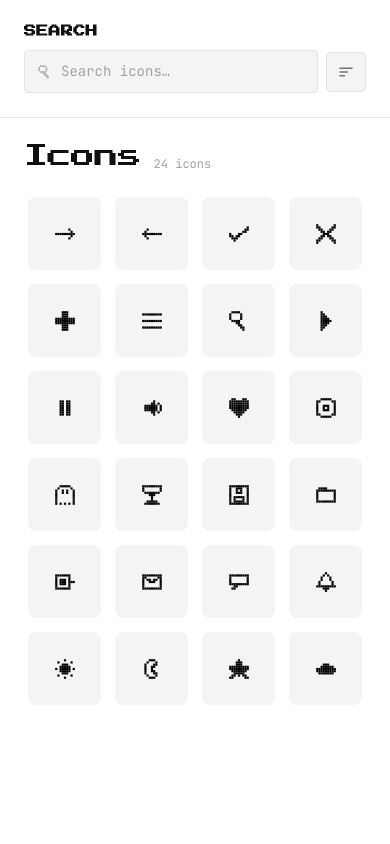
Scenario: filter sheet › Reset commits the defaults and closes
Click the button named "Filters" at (346, 72), box [326,52,366,92]
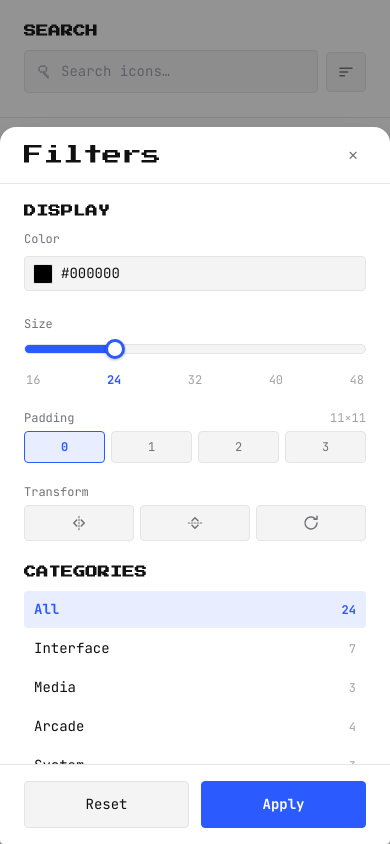
Click the button "Arcade 4" at (59, 726), box [24,708,366,745]
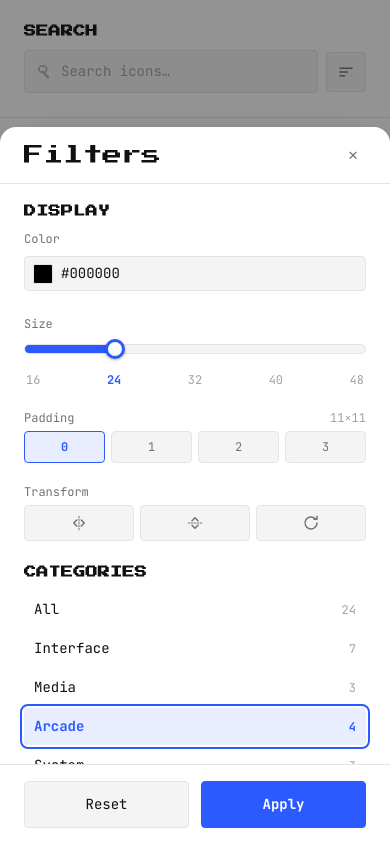
Click the button "Apply" at (284, 804), box [201,781,366,828]
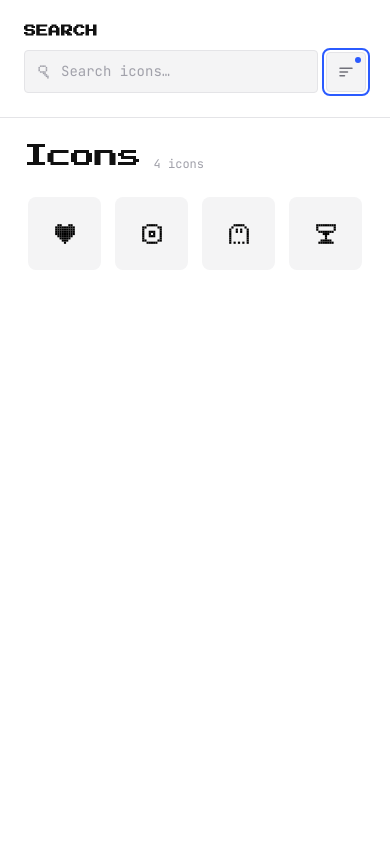
Click the button named "Filters" at (346, 72), box [326,52,366,92]
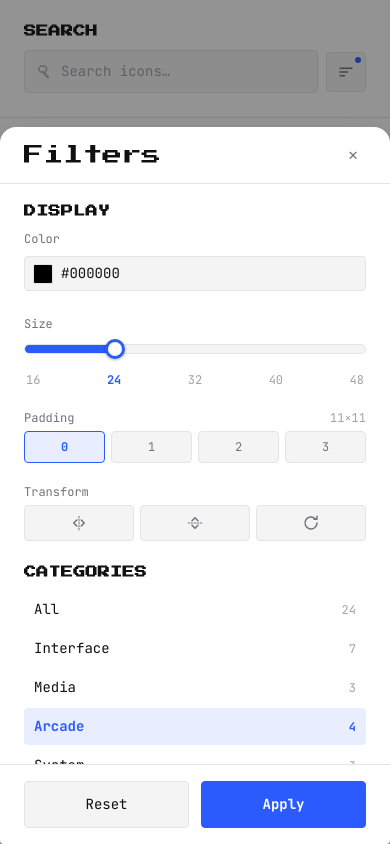
Click the button "Reset" at (106, 804), box [24,781,189,828]
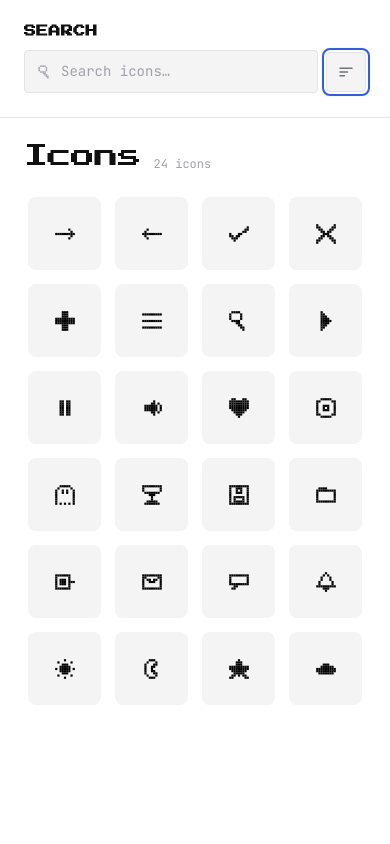
Now the dialog is gone
